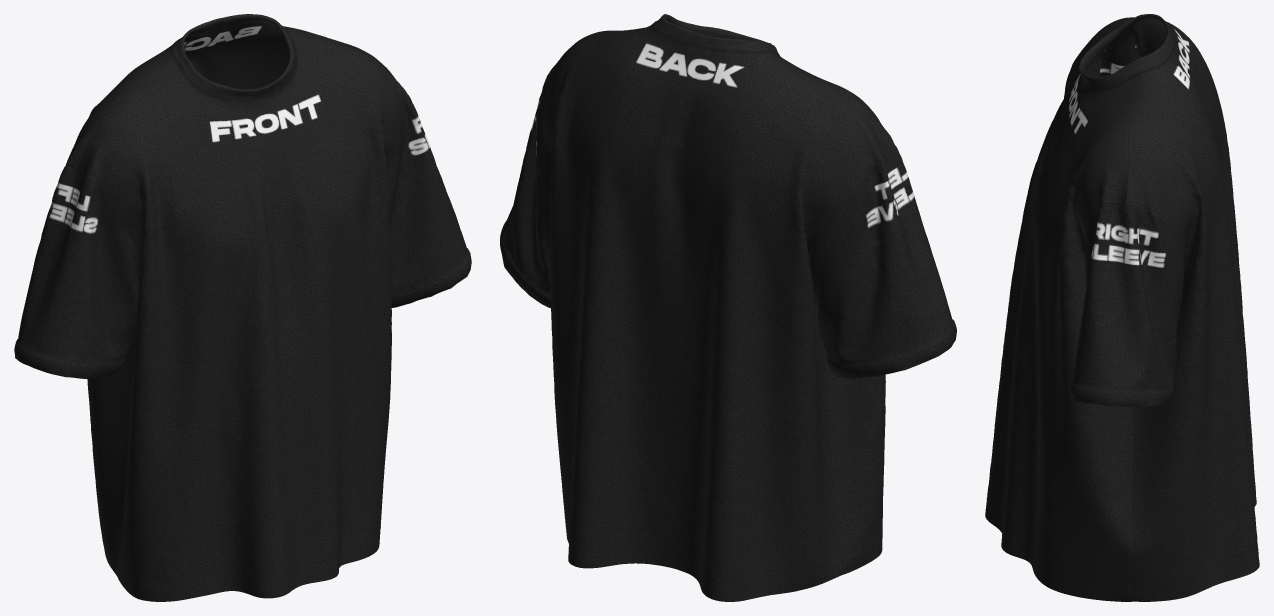
The model's file is actTShirtOversized.glb.
The picture shows the model from 3 angles, left to right: view 1: azimuth 30°, elevation 25°; view 2: azimuth 150°, elevation 25°; view 3: azimuth 270°, elevation 25°; orthographic projection. The views are drawn at different scales.
Visible parts, largest first — view 1: back_1_Node, TSHIRTREGULARSSTGM-COL_Node; view 2: back_1_Node, TSHIRTREGULARSSTGM-COL_Node; view 3: back_1_Node, TSHIRTREGULARSSTGM-COL_Node.
Part boxes in pixels (left/top/right/bottom): back_1_Node: left=14, top=22, right=471, bottom=601; TSHIRTREGULARSSTGM-COL_Node: left=172, top=14, right=296, bottom=100; back_1_Node: left=500, top=24, right=956, bottom=601; TSHIRTREGULARSSTGM-COL_Node: left=652, top=14, right=779, bottom=55; back_1_Node: left=985, top=17, right=1259, bottom=601; TSHIRTREGULARSSTGM-COL_Node: left=1079, top=14, right=1174, bottom=90.
Size of the model in its own units: 0.6636 by 0.7434 by 0.3617.
Materials: 2 (2 with a texture image).
